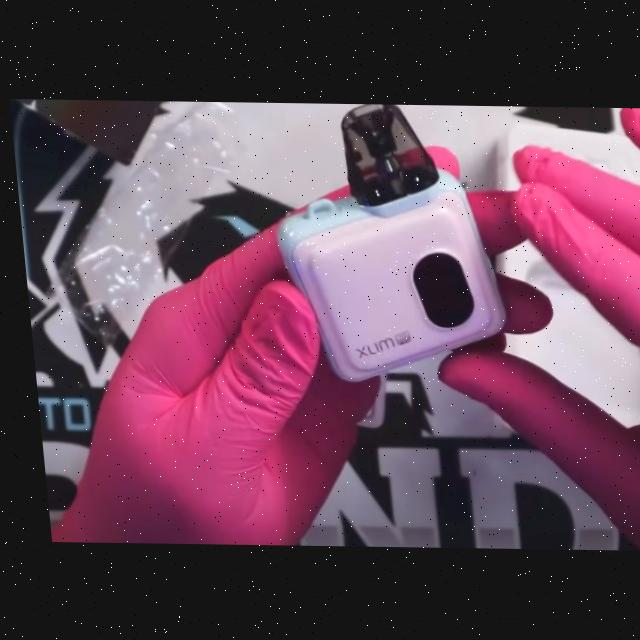vape: (261, 101, 507, 383)
